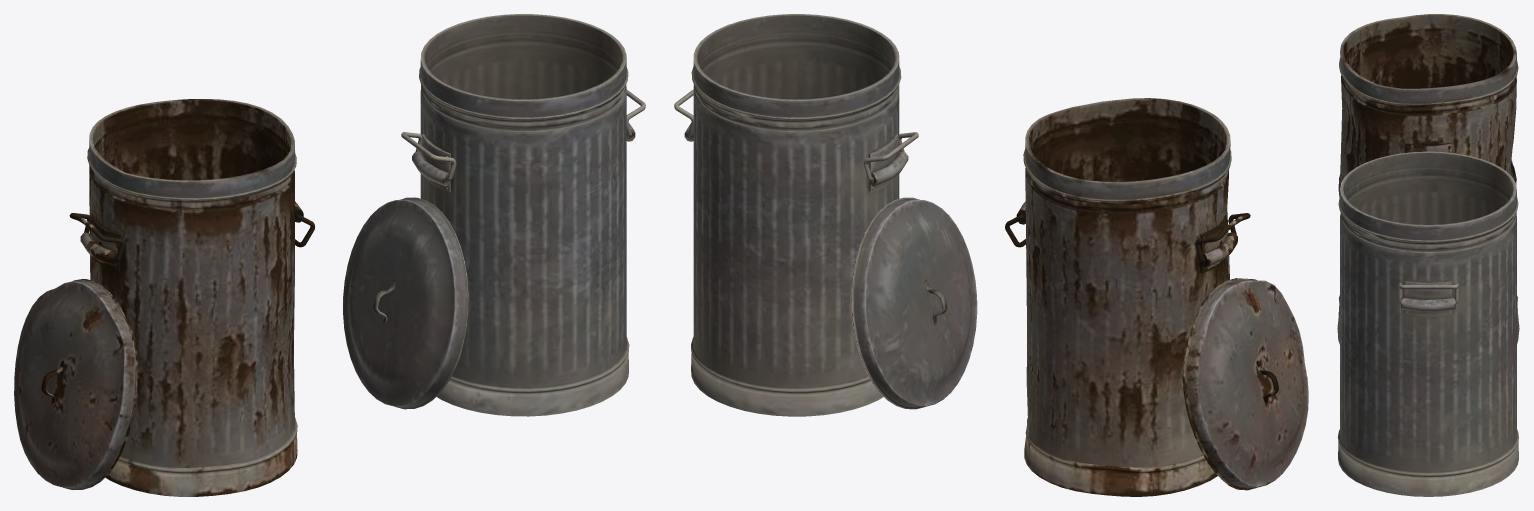
File: metal_trash_can.glb
3 views of the same model, side by side, from view 1: azimuth 30°, elevation 25°; view 2: azimuth 150°, elevation 25°; view 3: azimuth 270°, elevation 25° (orthographic). The views are drawn at different scales.
Visible parts, largest first — view 1: metal_trash_can, metal_trash_can_rust, metal_trash_can_lid, metal_trash_can_rust_lid; view 2: metal_trash_can, metal_trash_can_rust, metal_trash_can_lid, metal_trash_can_rust_lid; view 3: metal_trash_can, metal_trash_can_rust, metal_trash_can_handle_right.
Part boxes in pixels (left/top/right/bottom): metal_trash_can: left=412, top=14, right=635, bottom=416; metal_trash_can_rust: left=80, top=99, right=303, bottom=496; metal_trash_can_lid: left=343, top=197, right=468, bottom=409; metal_trash_can_rust_lid: left=14, top=279, right=137, bottom=489; metal_trash_can: left=684, top=14, right=908, bottom=416; metal_trash_can_rust: left=1016, top=98, right=1237, bottom=496; metal_trash_can_lid: left=851, top=197, right=977, bottom=409; metal_trash_can_rust_lid: left=1183, top=278, right=1308, bottom=490; metal_trash_can: left=1337, top=151, right=1518, bottom=496; metal_trash_can_rust: left=1338, top=14, right=1518, bottom=316; metal_trash_can_handle_right: left=1398, top=283, right=1458, bottom=303.
Bounding box in the file's own units: 1.78 × 0.9062 × 0.5543.
2 materials, 2 textured.
